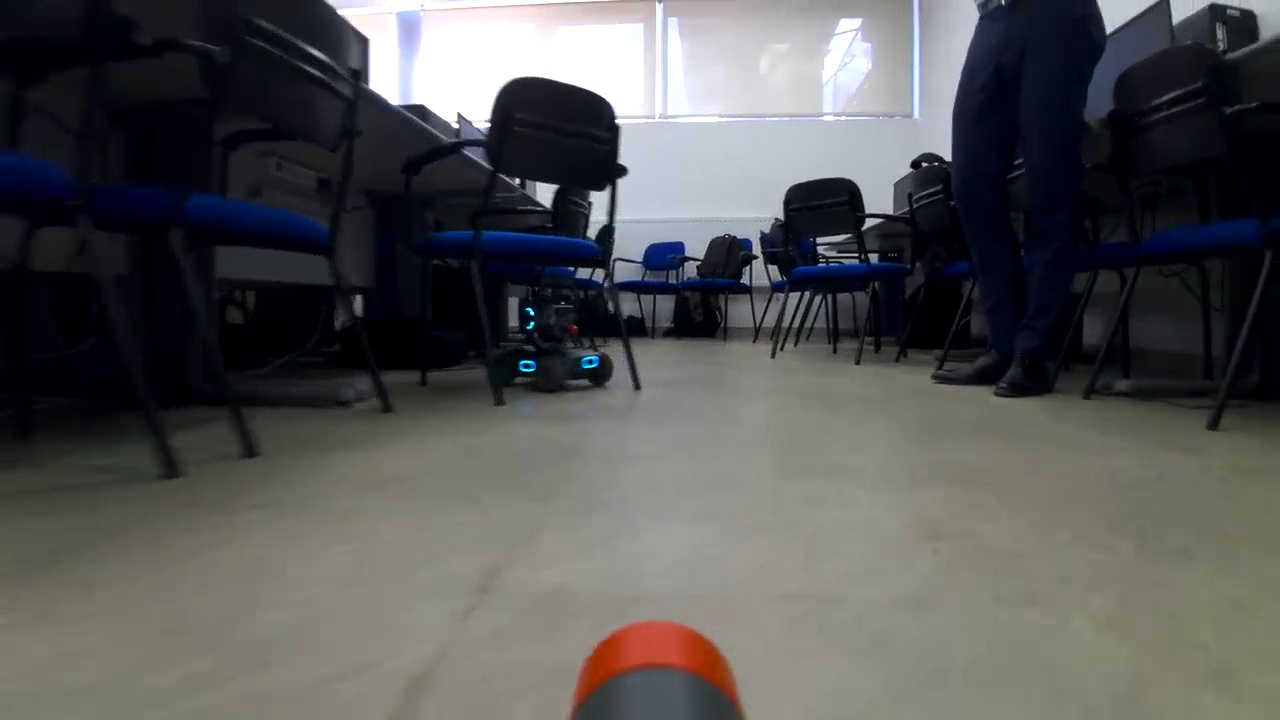robot: (489, 291, 617, 403)
